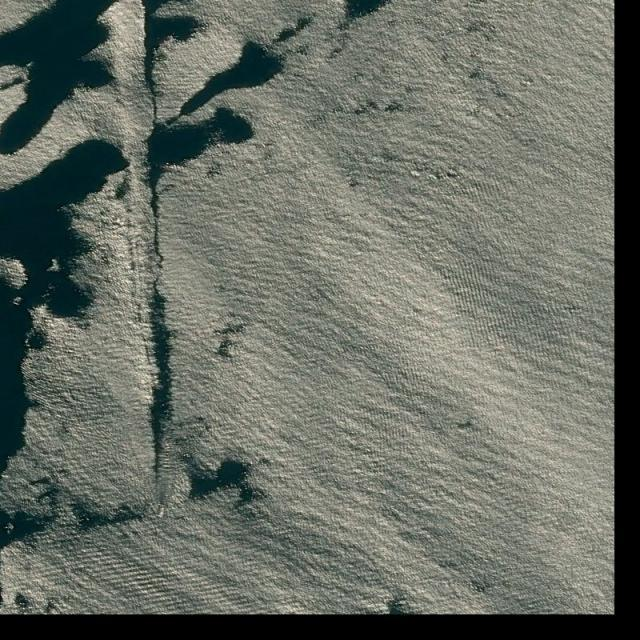ship: (159, 505, 165, 519)
